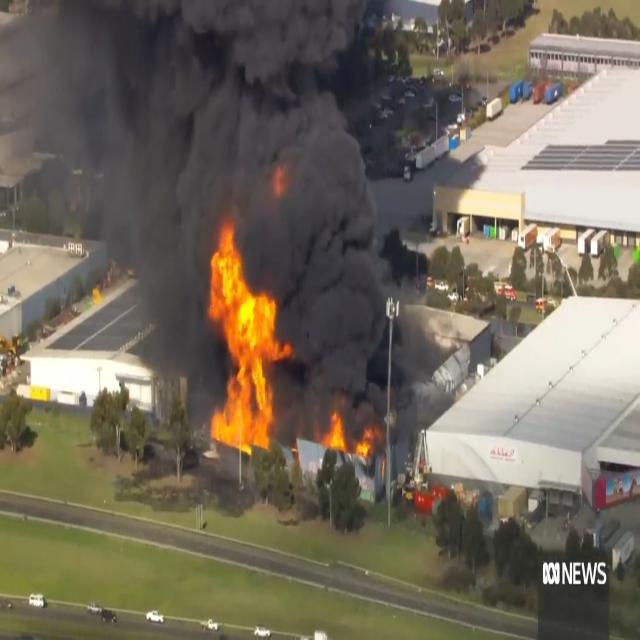fire: (200, 202, 294, 450), (326, 398, 346, 452), (357, 427, 377, 458)
